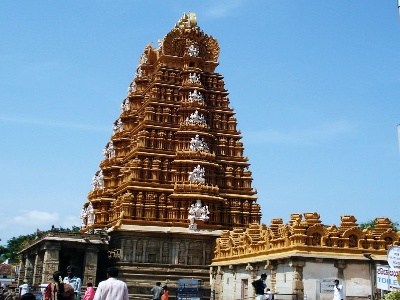gopura: (100, 58, 264, 225)
